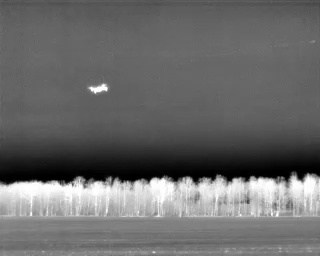DRONE: (84, 78, 113, 98)
